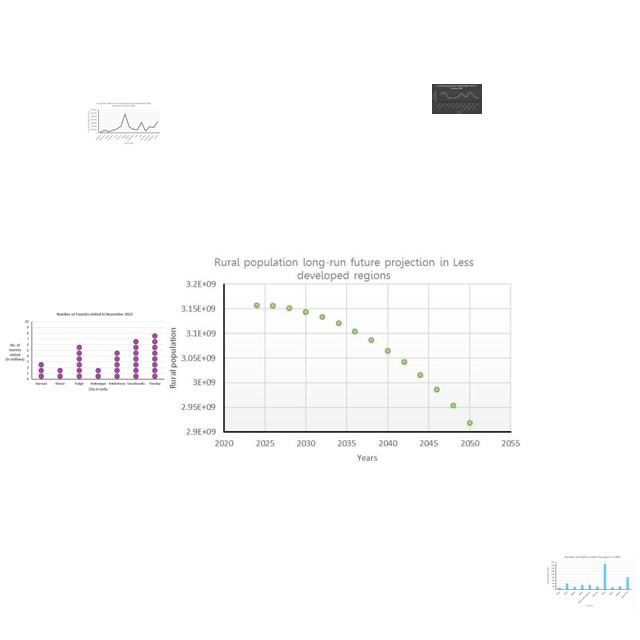Graph: (167, 254, 522, 463), (4, 311, 165, 393), (545, 554, 634, 610), (86, 101, 161, 145), (432, 84, 482, 114)
